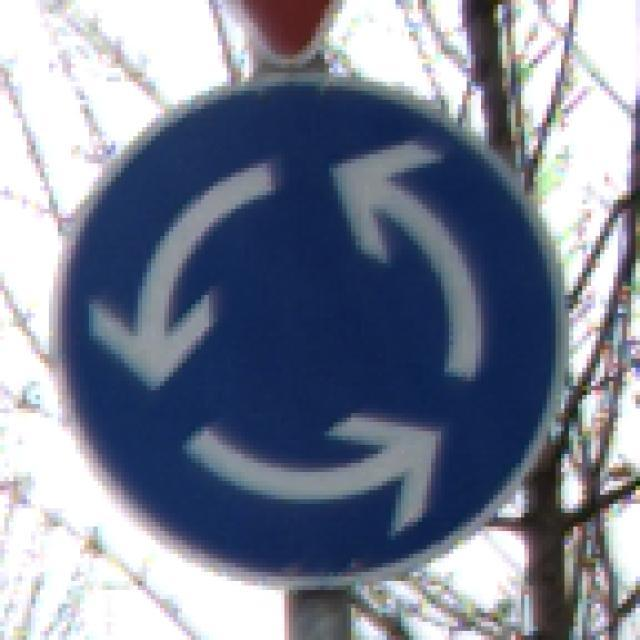roundabout: (58, 76, 560, 577)
